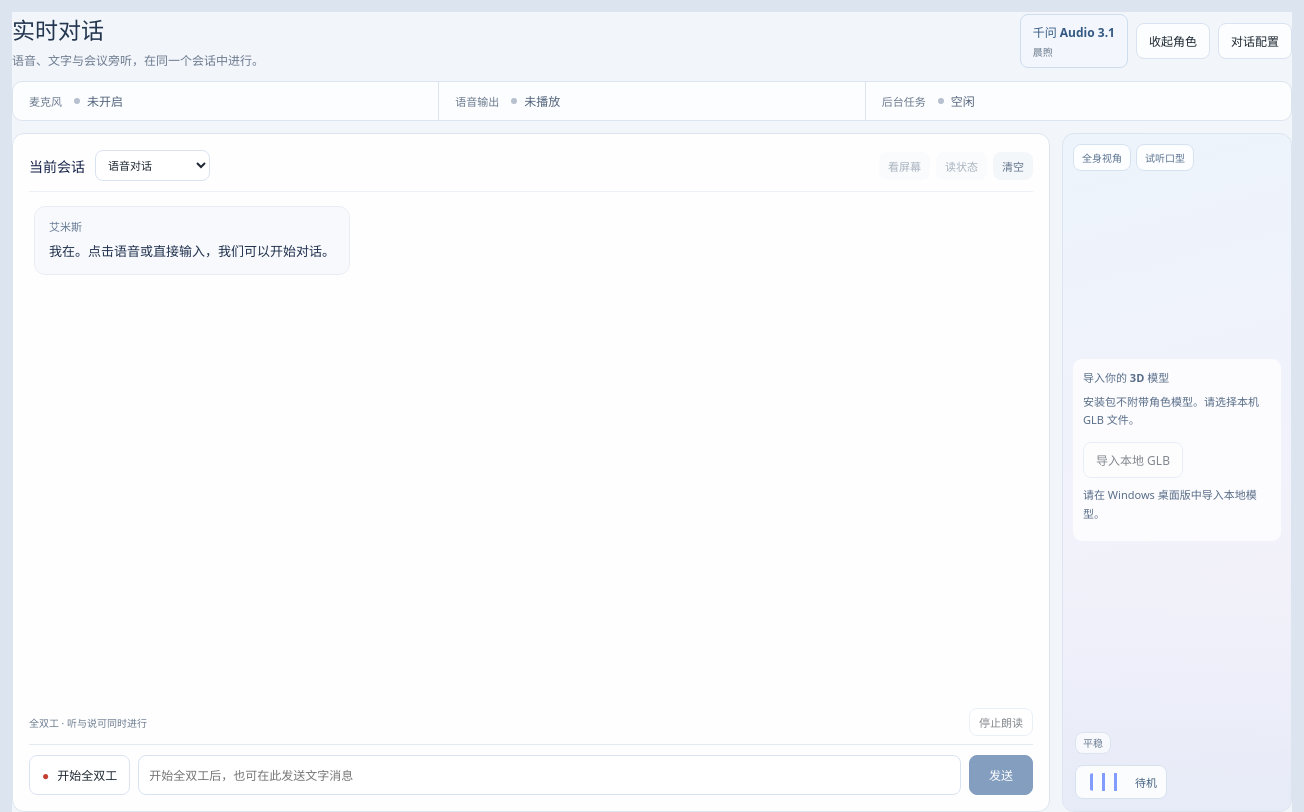
Test: Realtime API models in the existing 3D application › clears sessions and ignores late callbacks without requiring Codex reset
Click the button "●开始全双工".
click(80, 775)  # box [29,755,130,795]
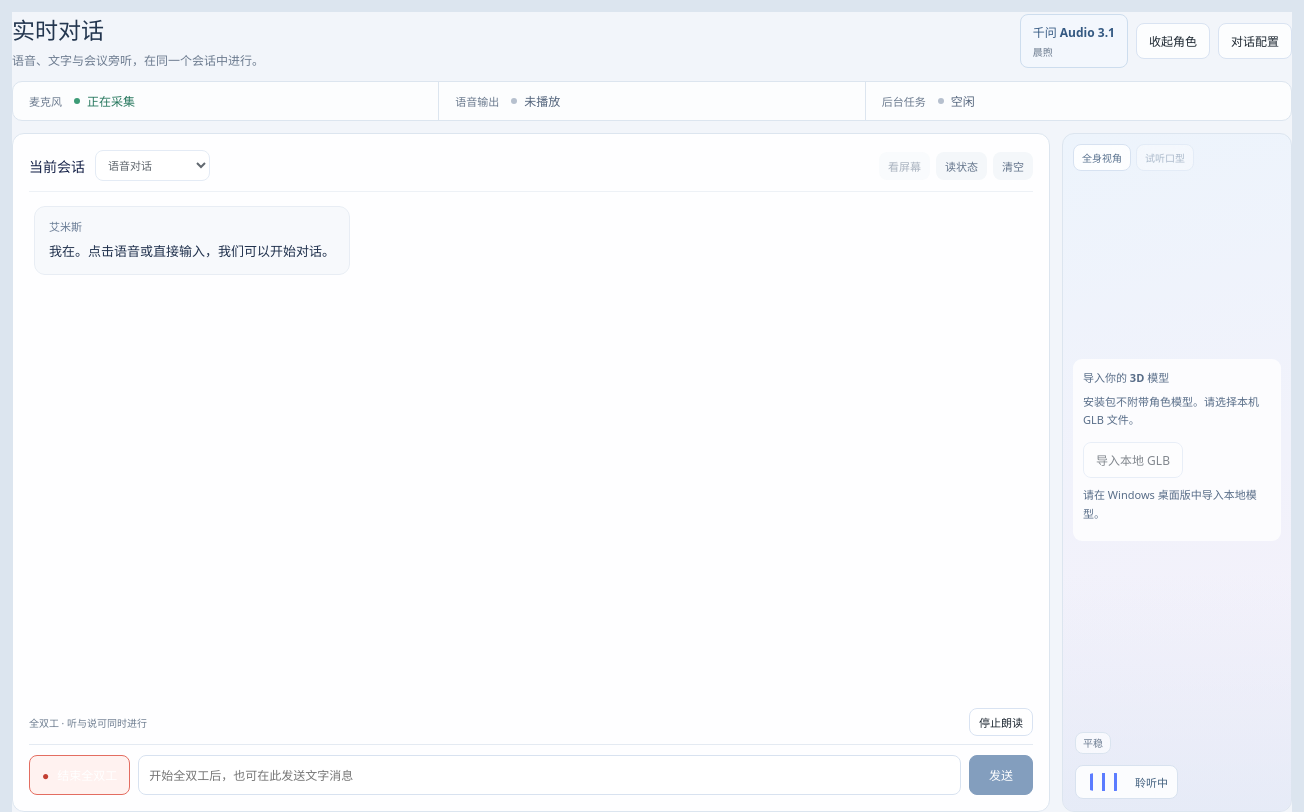
Result: the button "●结束全双工" is shown at [29,755,130,795]
Click the button "清空".
click(1013, 166)  # box [993,152,1033,180]
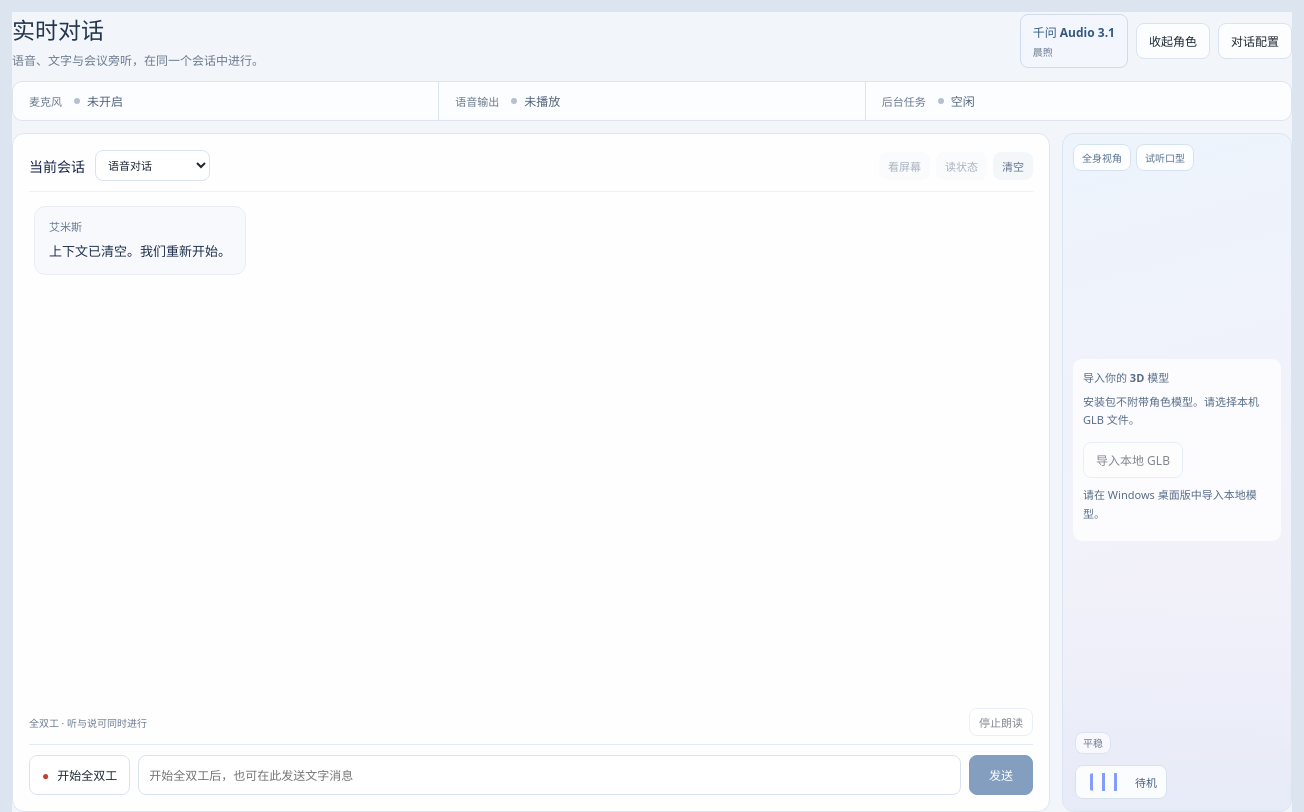
Result: the text "上下文已清空。我们重新开始。" is shown at [49,240,231,263]
Result: the button "●开始全双工" is shown at [29,755,130,795]
